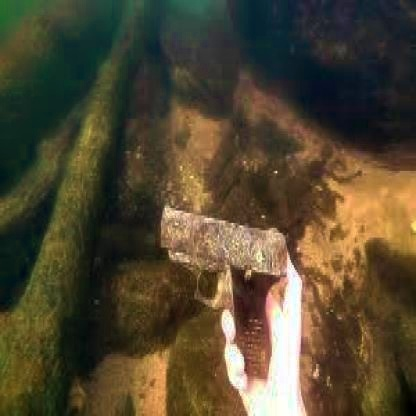misc: (160, 206, 287, 388)
